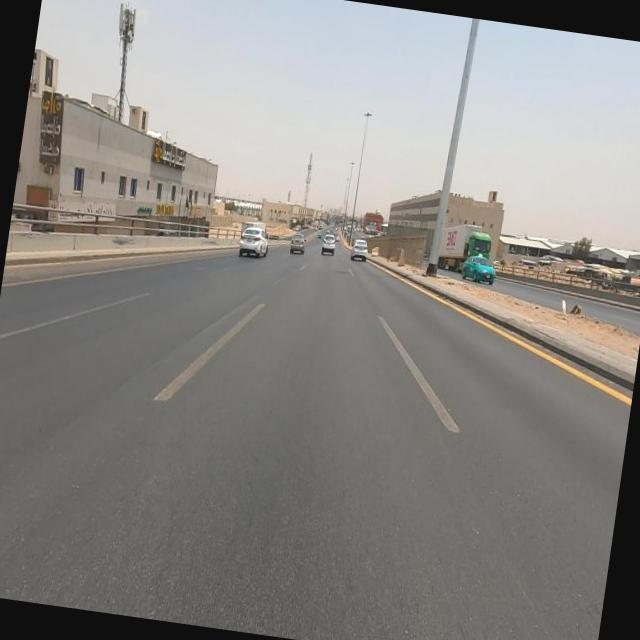debris: (533, 253, 603, 359)
